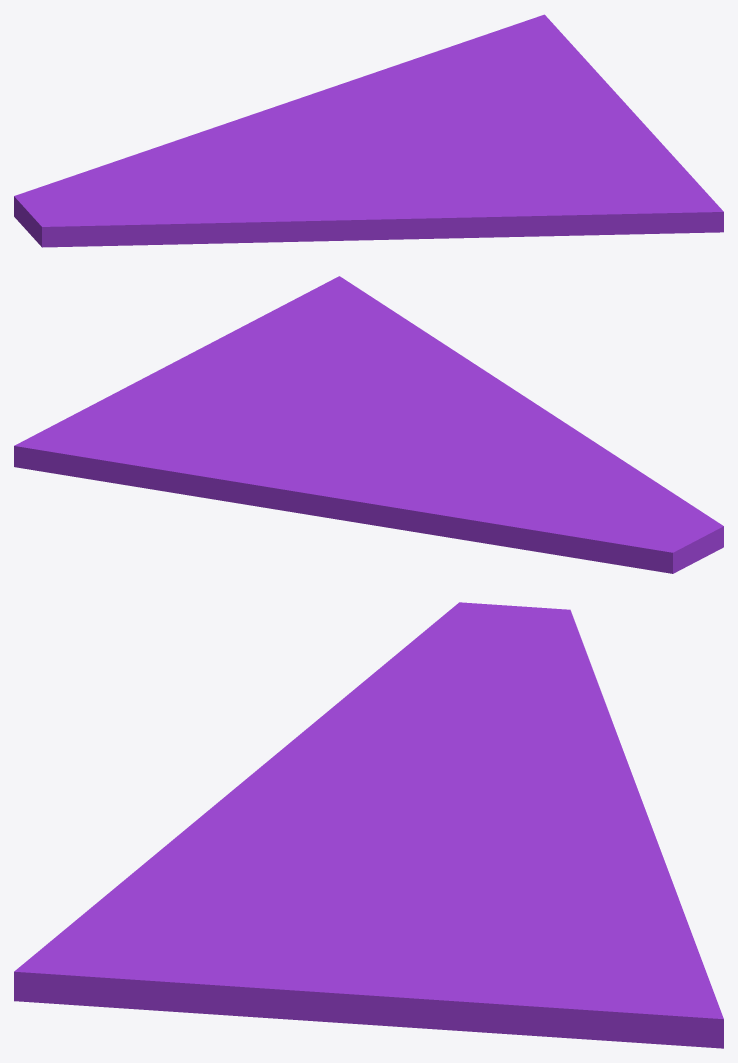
File: StairsStep_15.fbx
3 renders of one model, top to bottom at view 1: azimuth 30°, elevation 25°; view 2: azimuth 150°, elevation 25°; view 3: azimuth 270°, elevation 25°, orthographic. The views are drawn at different scales.
Visible parts, largest first — view 1: StairsStep_15; view 2: StairsStep_15; view 3: StairsStep_15.
Boxes of the visible parts, x1,y1,x2,y2 form: StairsStep_15: (14,14,723,247); StairsStep_15: (14,276,723,573); StairsStep_15: (14,602,723,1048).
Size of the model in its own units: 545 by 17.94 by 392.
